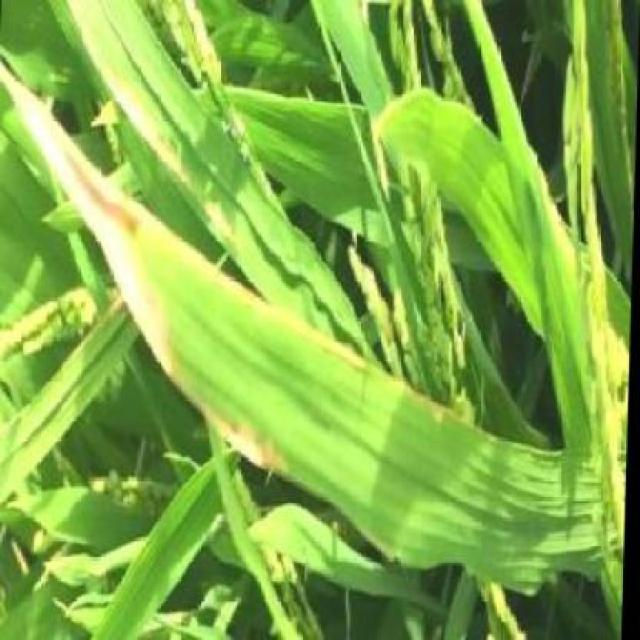Brown_Spot: (114, 255, 454, 458)
